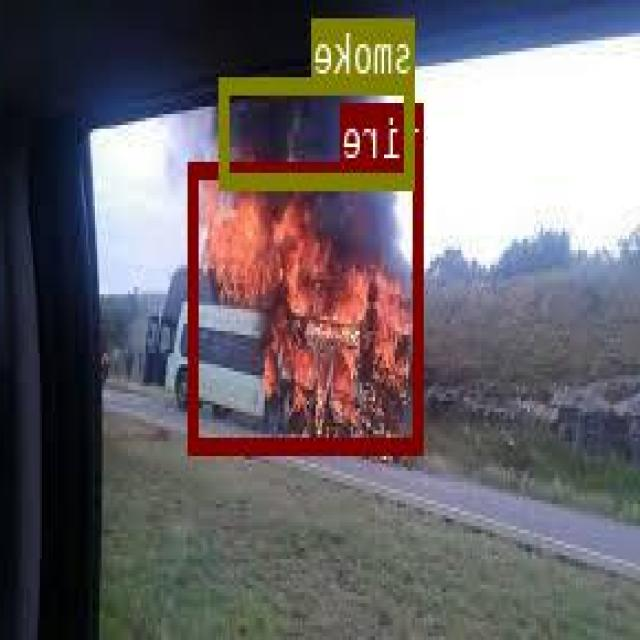fire: (190, 159, 425, 452)
smoke: (222, 75, 416, 186)
